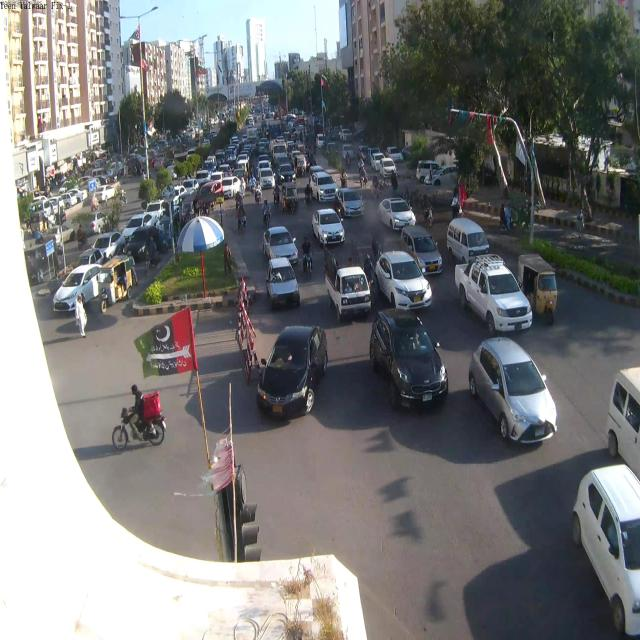car: (572, 464, 640, 635), (470, 336, 559, 444), (368, 309, 450, 412), (254, 324, 327, 421), (456, 254, 536, 334), (607, 364, 640, 504), (375, 252, 432, 310), (326, 263, 373, 321), (52, 264, 100, 313), (448, 218, 491, 266), (268, 259, 302, 312), (528, 264, 559, 321), (119, 212, 161, 253), (263, 227, 301, 267), (311, 208, 345, 248), (378, 197, 417, 231), (87, 232, 127, 265), (337, 188, 366, 218), (310, 168, 336, 192), (417, 160, 441, 184), (258, 159, 276, 186), (219, 178, 239, 202), (292, 153, 310, 176), (145, 200, 165, 218), (382, 158, 398, 180), (195, 169, 213, 187), (272, 138, 290, 156), (64, 191, 81, 208), (387, 148, 404, 163), (183, 181, 198, 195), (372, 152, 384, 166), (230, 136, 242, 149), (237, 154, 248, 168), (316, 136, 326, 149)
motorbike: (111, 406, 168, 456), (144, 249, 163, 274), (498, 216, 519, 237), (302, 251, 314, 282), (370, 234, 384, 260), (449, 201, 467, 221), (421, 205, 435, 228), (237, 212, 247, 236), (262, 207, 271, 229), (304, 192, 314, 209), (255, 187, 262, 207), (236, 199, 244, 216), (360, 173, 368, 190), (250, 180, 257, 197), (274, 190, 280, 209), (340, 176, 348, 190), (358, 162, 365, 175), (345, 156, 351, 169)
